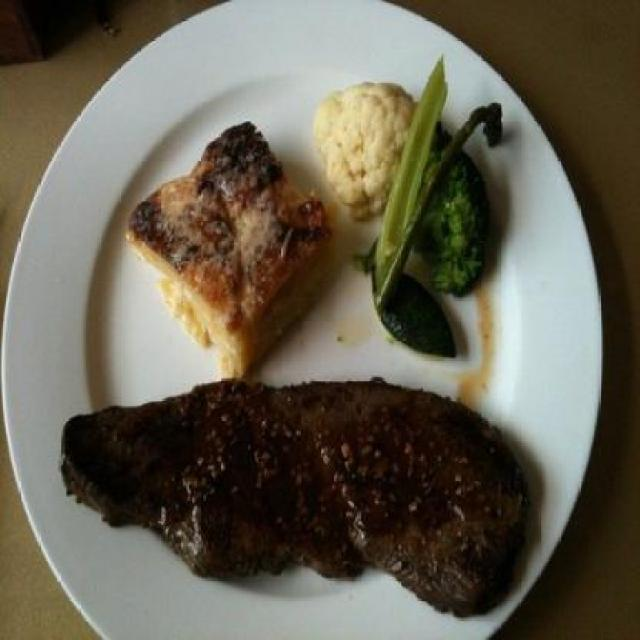Steak: (50, 360, 568, 632)
